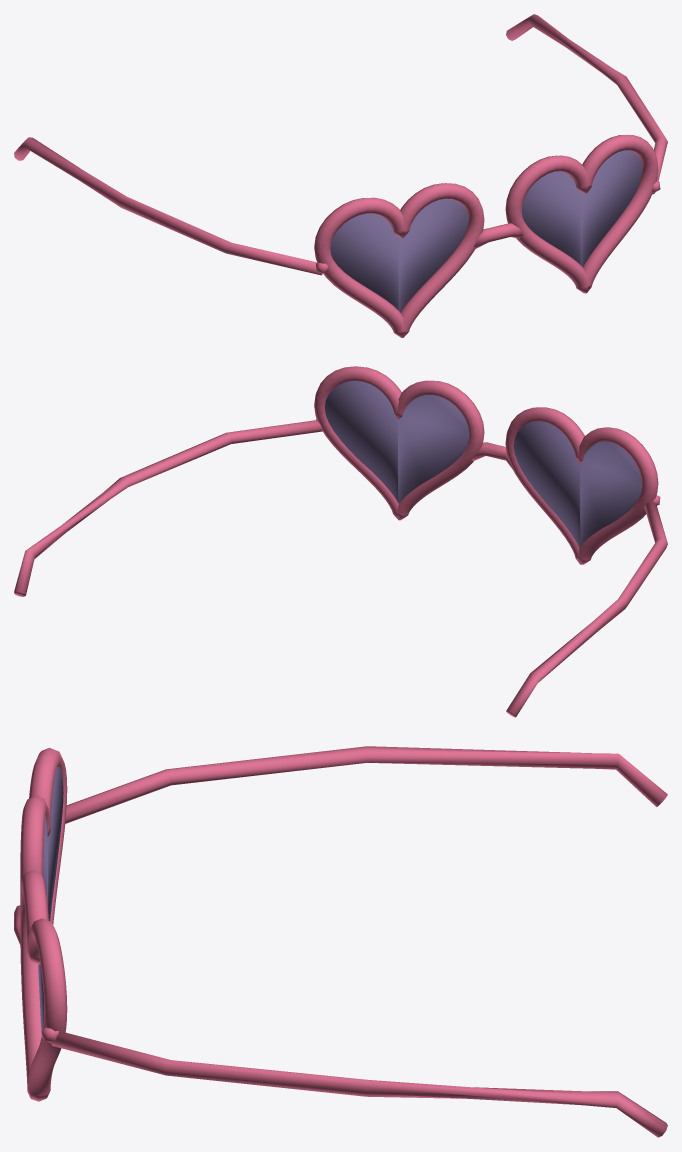
Rendered from 15-heartbreaker.glb.
3 views of the same model, one above another, from view 1: azimuth 30°, elevation 25°; view 2: azimuth 150°, elevation 25°; view 3: azimuth 270°, elevation 25° (orthographic). The views are drawn at different scales.
Parts seen in each view (by area): view 1: Glasses15_Lens-12, Glasses15_Rim-11, Glasses15_Lens14, Glasses15_Rim13, Glasses15_Temple-16, Glasses15_Temple18, Glasses15_Bridge5; view 2: Glasses15_Lens14, Glasses15_Lens-12, Glasses15_Rim13, Glasses15_Rim-11, Glasses15_Temple18, Glasses15_Temple-16; view 3: Glasses15_Temple-16, Glasses15_Temple18, Glasses15_Rim13, Glasses15_Rim-11, Glasses15_Lens-12.
Boxes of the visible parts, x1=… form: Glasses15_Lens-12: x1=330, y1=199, x2=468, y2=312; Glasses15_Rim-11: x1=314, y1=183, x2=484, y2=337; Glasses15_Lens14: x1=521, y1=150, x2=642, y2=266; Glasses15_Rim13: x1=505, y1=134, x2=658, y2=293; Glasses15_Temple-16: x1=14, y1=137, x2=322, y2=275; Glasses15_Temple18: x1=506, y1=14, x2=667, y2=194; Glasses15_Bridge5: x1=474, y1=223, x2=523, y2=248; Glasses15_Lens14: x1=324, y1=380, x2=469, y2=503; Glasses15_Lens-12: x1=513, y1=421, x2=641, y2=547; Glasses15_Rim13: x1=314, y1=366, x2=484, y2=520; Glasses15_Rim-11: x1=505, y1=407, x2=658, y2=564; Glasses15_Temple18: x1=14, y1=420, x2=322, y2=596; Glasses15_Temple-16: x1=506, y1=501, x2=667, y2=717; Glasses15_Temple-16: x1=65, y1=746, x2=667, y2=823; Glasses15_Temple18: x1=51, y1=1032, x2=667, y2=1137; Glasses15_Rim13: x1=20, y1=870, x2=67, y2=1101; Glasses15_Rim-11: x1=20, y1=747, x2=67, y2=924; Glasses15_Lens-12: x1=43, y1=766, x2=63, y2=921.
Size of the model in its own units: 0.6374 by 0.173 by 0.5101.
